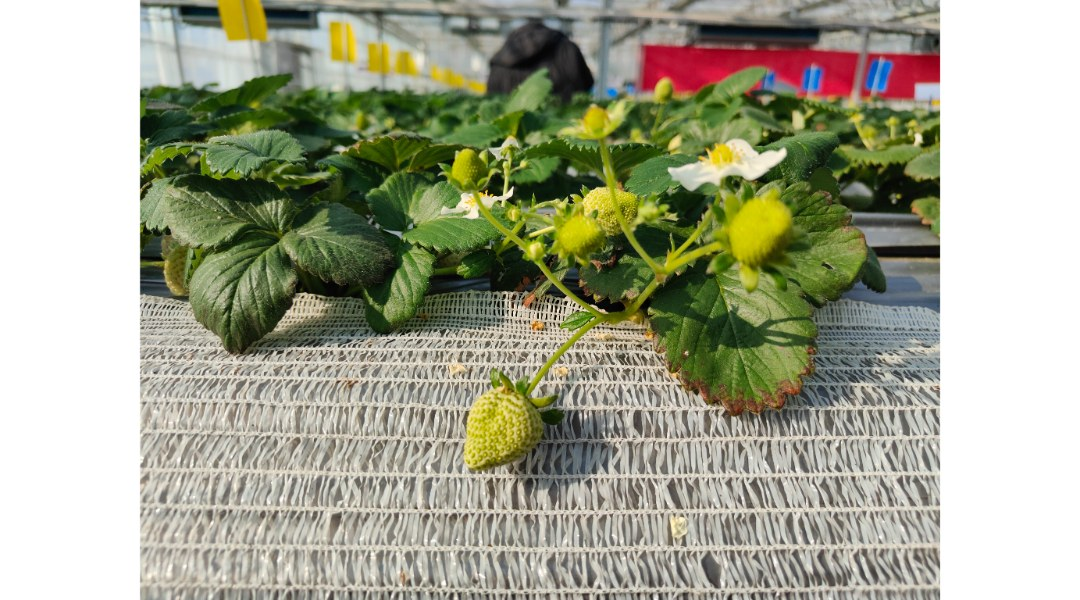berry: (461, 369, 549, 480), (564, 89, 629, 154), (562, 184, 643, 235), (549, 205, 603, 266), (437, 141, 497, 193)
flower: (665, 131, 791, 188)
strain: (600, 160, 656, 269), (526, 322, 598, 400)
